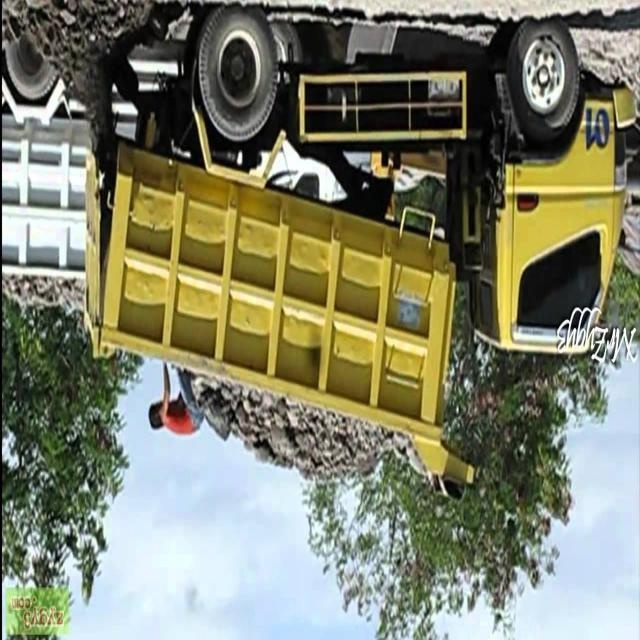Truck: (84, 1, 636, 497)
